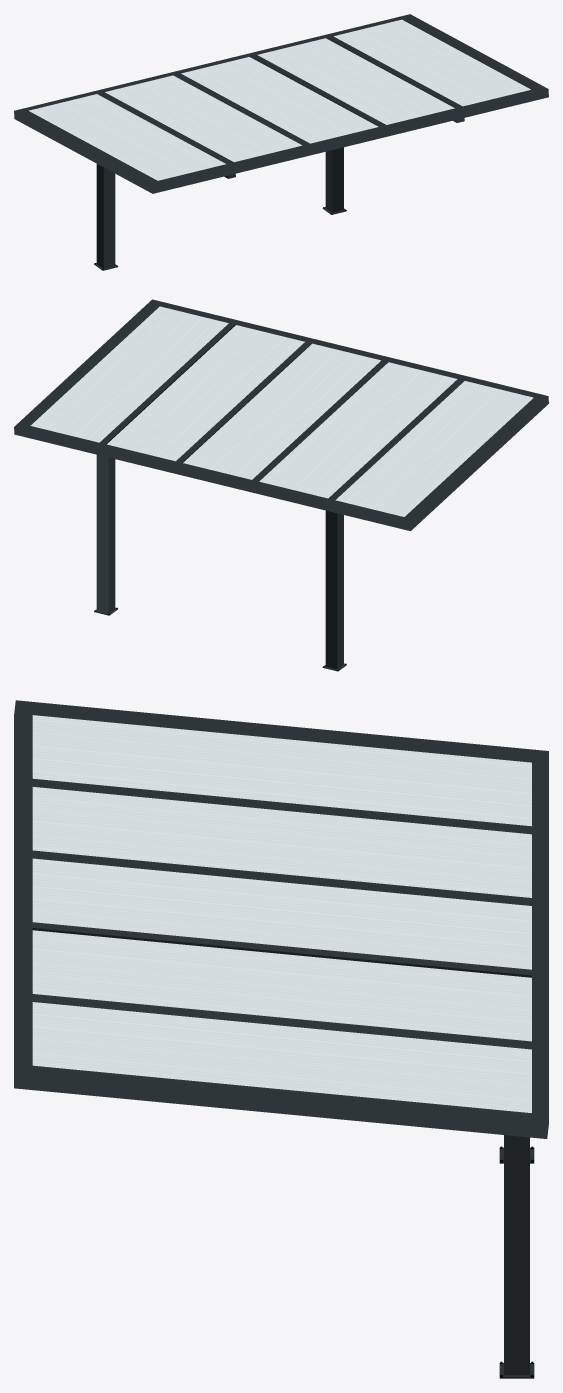
3 renders of one model, top to bottom at view 1: azimuth 30°, elevation 25°; view 2: azimuth 150°, elevation 25°; view 3: azimuth 270°, elevation 25°, orthographic. The views are drawn at different scales.
Parts seen in each view (by area): view 1: priximbattable_net_abris_de_voiture_640019_carport_aluminium; view 2: priximbattable_net_abris_de_voiture_640019_carport_aluminium; view 3: priximbattable_net_abris_de_voiture_640019_carport_aluminium.
Boxes of the visible parts, x1=… form: priximbattable_net_abris_de_voiture_640019_carport_aluminium: x1=14, y1=14, x2=548, y2=270; priximbattable_net_abris_de_voiture_640019_carport_aluminium: x1=14, y1=299, x2=548, y2=671; priximbattable_net_abris_de_voiture_640019_carport_aluminium: x1=14, y1=700, x2=548, y2=1378.
Bounding box in the file's own units: 520 × 245 × 315.
Materials: 1 (1 with a texture image).
